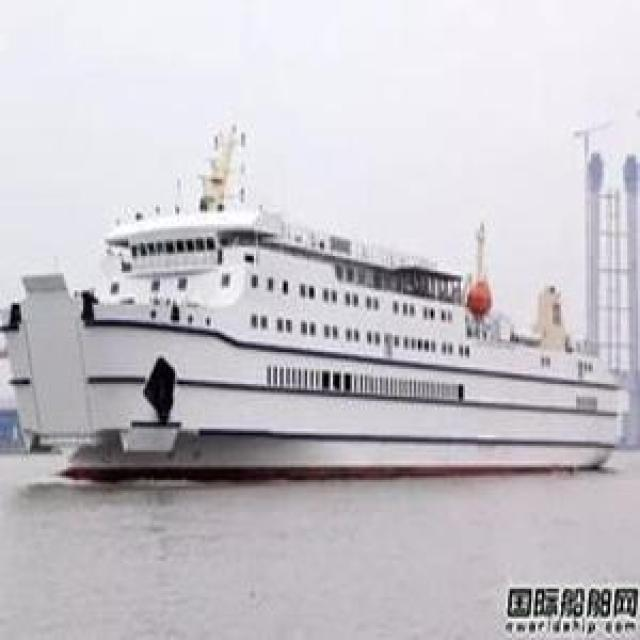passenger ship: (17, 172, 617, 485)
